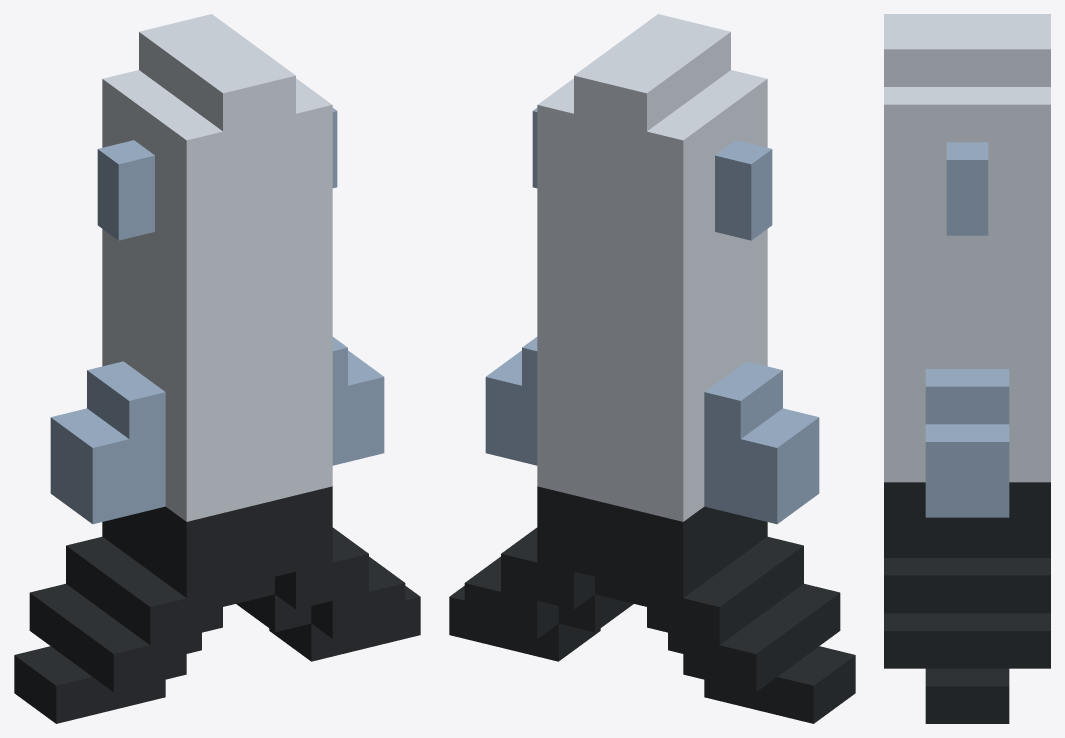
The model's file is Missile.fbx.
3 renders of one model, left to right at view 1: azimuth 30°, elevation 25°; view 2: azimuth 150°, elevation 25°; view 3: azimuth 270°, elevation 25°, orthographic.
Parts seen in each view (by area): view 1: generated; view 2: generated; view 3: generated.
Boxes of the visible parts, box(x1,y1,x2,y2) form: generated: box(14, 14, 420, 723); generated: box(449, 14, 855, 723); generated: box(884, 14, 1050, 723).
Bounding box in the file's own units: 100 × 160 × 40.
